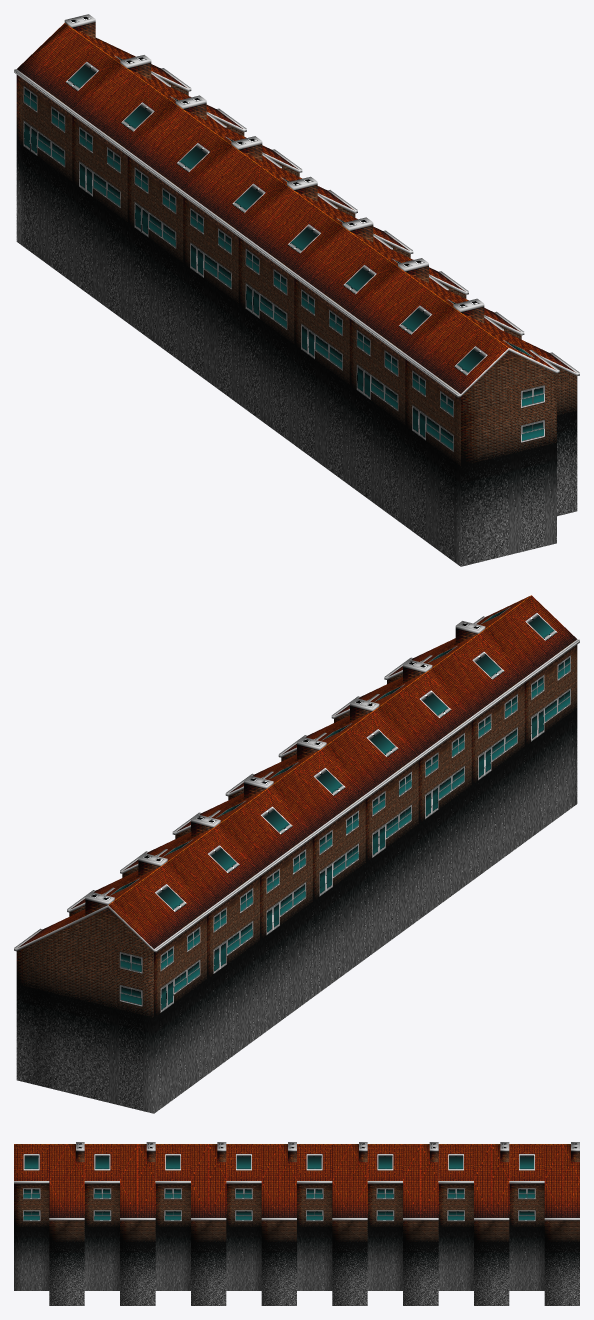
The model's file is doorzon_mod3_4a.fbx.
The picture shows the model from 3 angles, top to bottom: view 1: azimuth 30°, elevation 25°; view 2: azimuth 150°, elevation 25°; view 3: azimuth 270°, elevation 25°; orthographic projection. The views are drawn at different scales.
Parts seen in each view (by area): view 1: doorzon_mod3_4a; view 2: doorzon_mod3_4a; view 3: doorzon_mod3_4a.
Boxes of the visible parts, left/top/right/bottom form: doorzon_mod3_4a: left=14, top=14, right=579, bottom=566; doorzon_mod3_4a: left=14, top=595, right=579, bottom=1113; doorzon_mod3_4a: left=14, top=1142, right=579, bottom=1305.
Bounding box in the file's own units: 1400 × 1879 × 7200.
